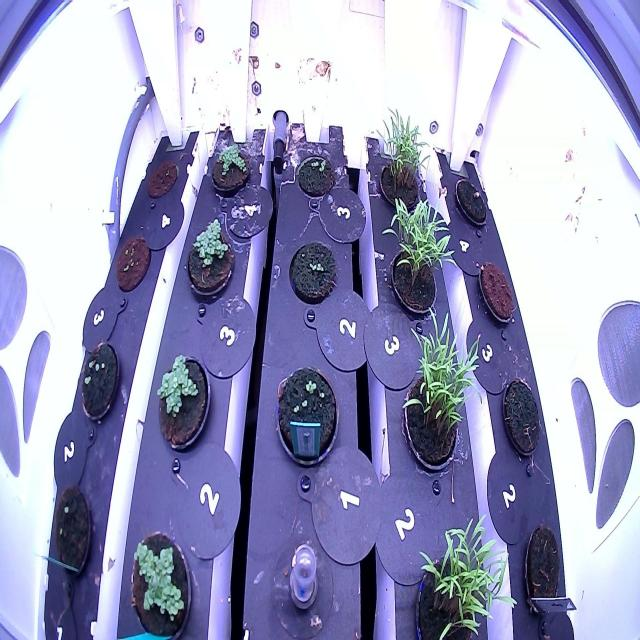germination: (122, 522, 194, 639), (274, 364, 340, 466), (151, 347, 213, 455), (49, 480, 98, 584), (182, 216, 239, 305), (78, 336, 122, 430), (287, 233, 339, 306), (204, 138, 252, 198), (112, 229, 153, 297), (293, 150, 336, 203)
pod: (522, 518, 562, 621), (498, 372, 541, 463), (475, 255, 516, 328), (452, 176, 490, 233), (144, 151, 182, 204)
